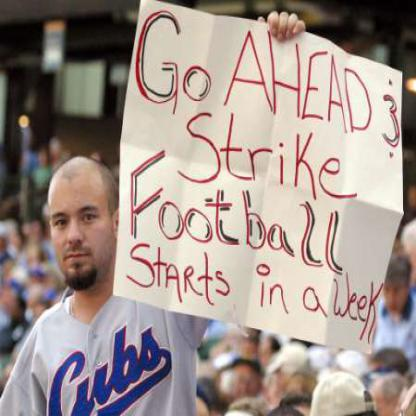face: (49, 159, 116, 292), (384, 262, 410, 314)
